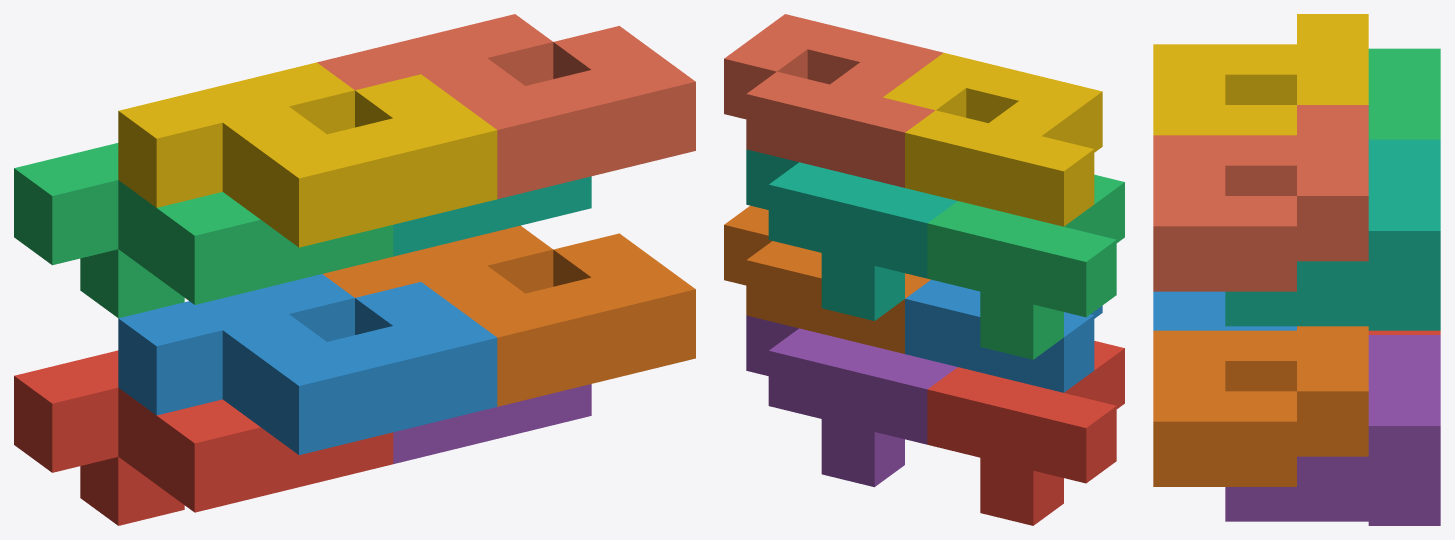
File: tiling.obj
The picture shows the model from 3 angles, left to right: view 1: azimuth 30°, elevation 25°; view 2: azimuth 150°, elevation 25°; view 3: azimuth 270°, elevation 25°; orthographic projection. The views are drawn at different scales.
Parts seen in each view (by area): view 1: copy_1_domain_4, copy_1_domain_2, copy_1_domain_8, copy_1_domain_6, copy_1_domain_1, copy_1_domain_3, copy_1_domain_7, copy_1_domain_5; view 2: copy_1_domain_4, copy_1_domain_8, copy_1_domain_3, copy_1_domain_1, copy_1_domain_7, copy_1_domain_5, copy_1_domain_6, copy_1_domain_2; view 3: copy_1_domain_8, copy_1_domain_6, copy_1_domain_7, copy_1_domain_5, copy_1_domain_4, copy_1_domain_3, copy_1_domain_2, copy_1_domain_1.
Boxes of the visible parts, <box> form: copy_1_domain_4: <box>118,62,497,247</box>; copy_1_domain_2: <box>118,274,497,455</box>; copy_1_domain_8: <box>317,14,695,199</box>; copy_1_domain_6: <box>323,225,695,406</box>; copy_1_domain_1: <box>14,350,393,525</box>; copy_1_domain_3: <box>14,143,393,318</box>; copy_1_domain_7: <box>393,176,591,256</box>; copy_1_domain_5: <box>393,384,591,463</box>; copy_1_domain_4: <box>883,53,1102,226</box>; copy_1_domain_8: <box>724,14,943,187</box>; copy_1_domain_3: <box>927,174,1124,359</box>; copy_1_domain_1: <box>927,341,1124,525</box>; copy_1_domain_7: <box>746,149,957,320</box>; copy_1_domain_5: <box>746,315,957,487</box>; copy_1_domain_6: <box>724,205,930,353</box>; copy_1_domain_2: <box>905,279,1102,392</box>; copy_1_domain_8: <box>1153,105,1368,291</box>; copy_1_domain_6: <box>1153,326,1368,486</box>; copy_1_domain_7: <box>1225,139,1440,330</box>; copy_1_domain_5: <box>1225,335,1440,525</box>; copy_1_domain_4: <box>1153,14,1368,135</box>; copy_1_domain_3: <box>1368,48,1440,139</box>; copy_1_domain_2: <box>1153,291,1296,330</box>; copy_1_domain_1: <box>1368,330,1440,334</box>.
Size of the model in its own units: 8 by 6 by 4.
